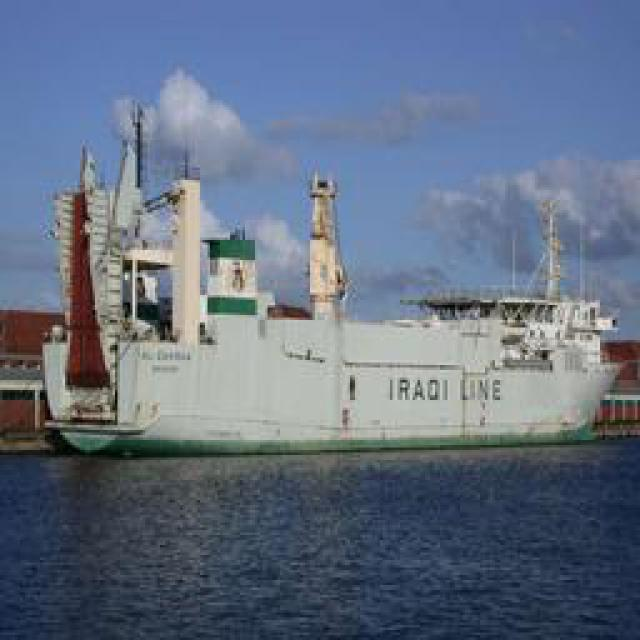Ship: (33, 202, 621, 455)
